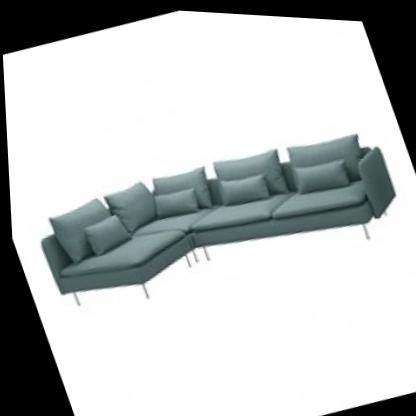Sofa: (4, 75, 416, 355)
